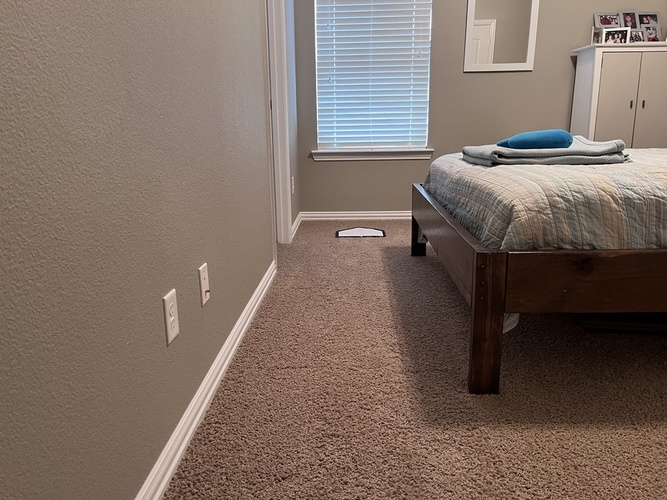homeplate: (335, 225, 385, 238)
